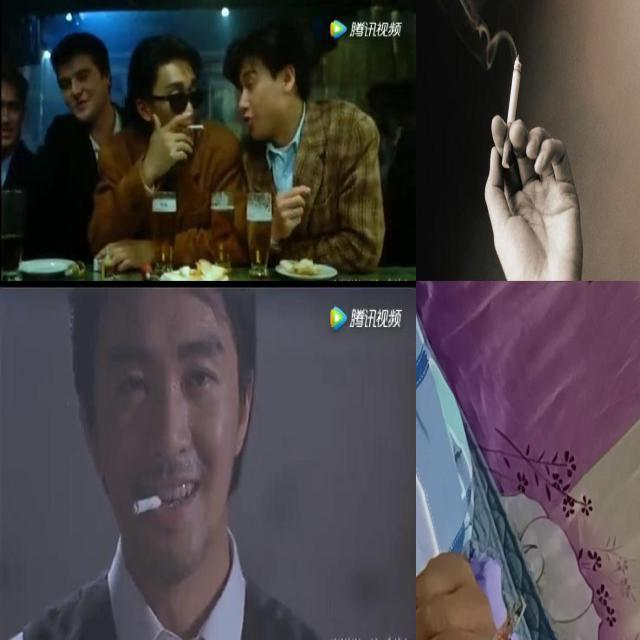smoking: (462, 596, 526, 640), (500, 47, 522, 173), (126, 481, 166, 524), (187, 122, 205, 132)
